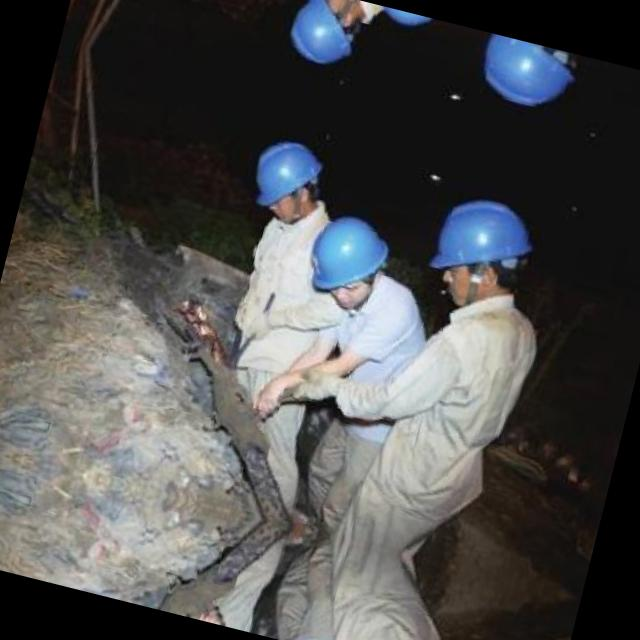helmet: (418, 182, 544, 316), (302, 206, 408, 318), (231, 125, 331, 230), (466, 31, 582, 121), (268, 0, 367, 75)
